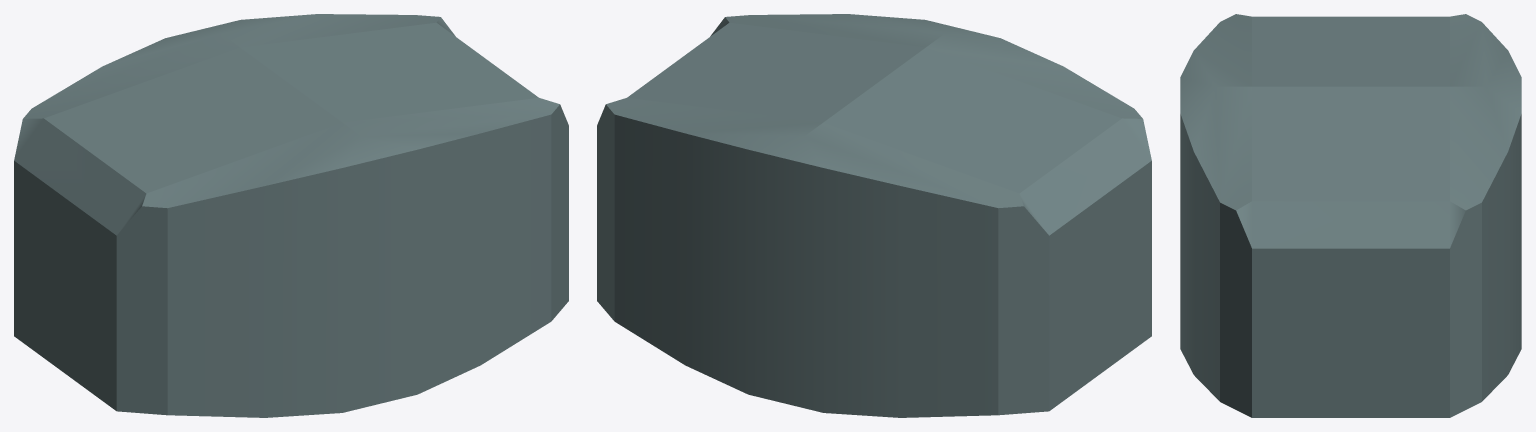
Rendered from smSnekJoint_Sm.fbx.
The picture shows the model from 3 angles, left to right: view 1: azimuth 30°, elevation 25°; view 2: azimuth 150°, elevation 25°; view 3: azimuth 270°, elevation 25°; orthographic projection. The views are drawn at different scales.
Visible parts, largest first — view 1: smSnekJoint_Sm; view 2: smSnekJoint_Sm; view 3: smSnekJoint_Sm.
Boxes of the visible parts, left/top/right/bottom form: smSnekJoint_Sm: left=14, top=14, right=568, bottom=417; smSnekJoint_Sm: left=597, top=14, right=1151, bottom=417; smSnekJoint_Sm: left=1180, top=14, right=1521, bottom=417.
Bounding box in the file's own units: 20.6 × 11.49 × 13.99.
